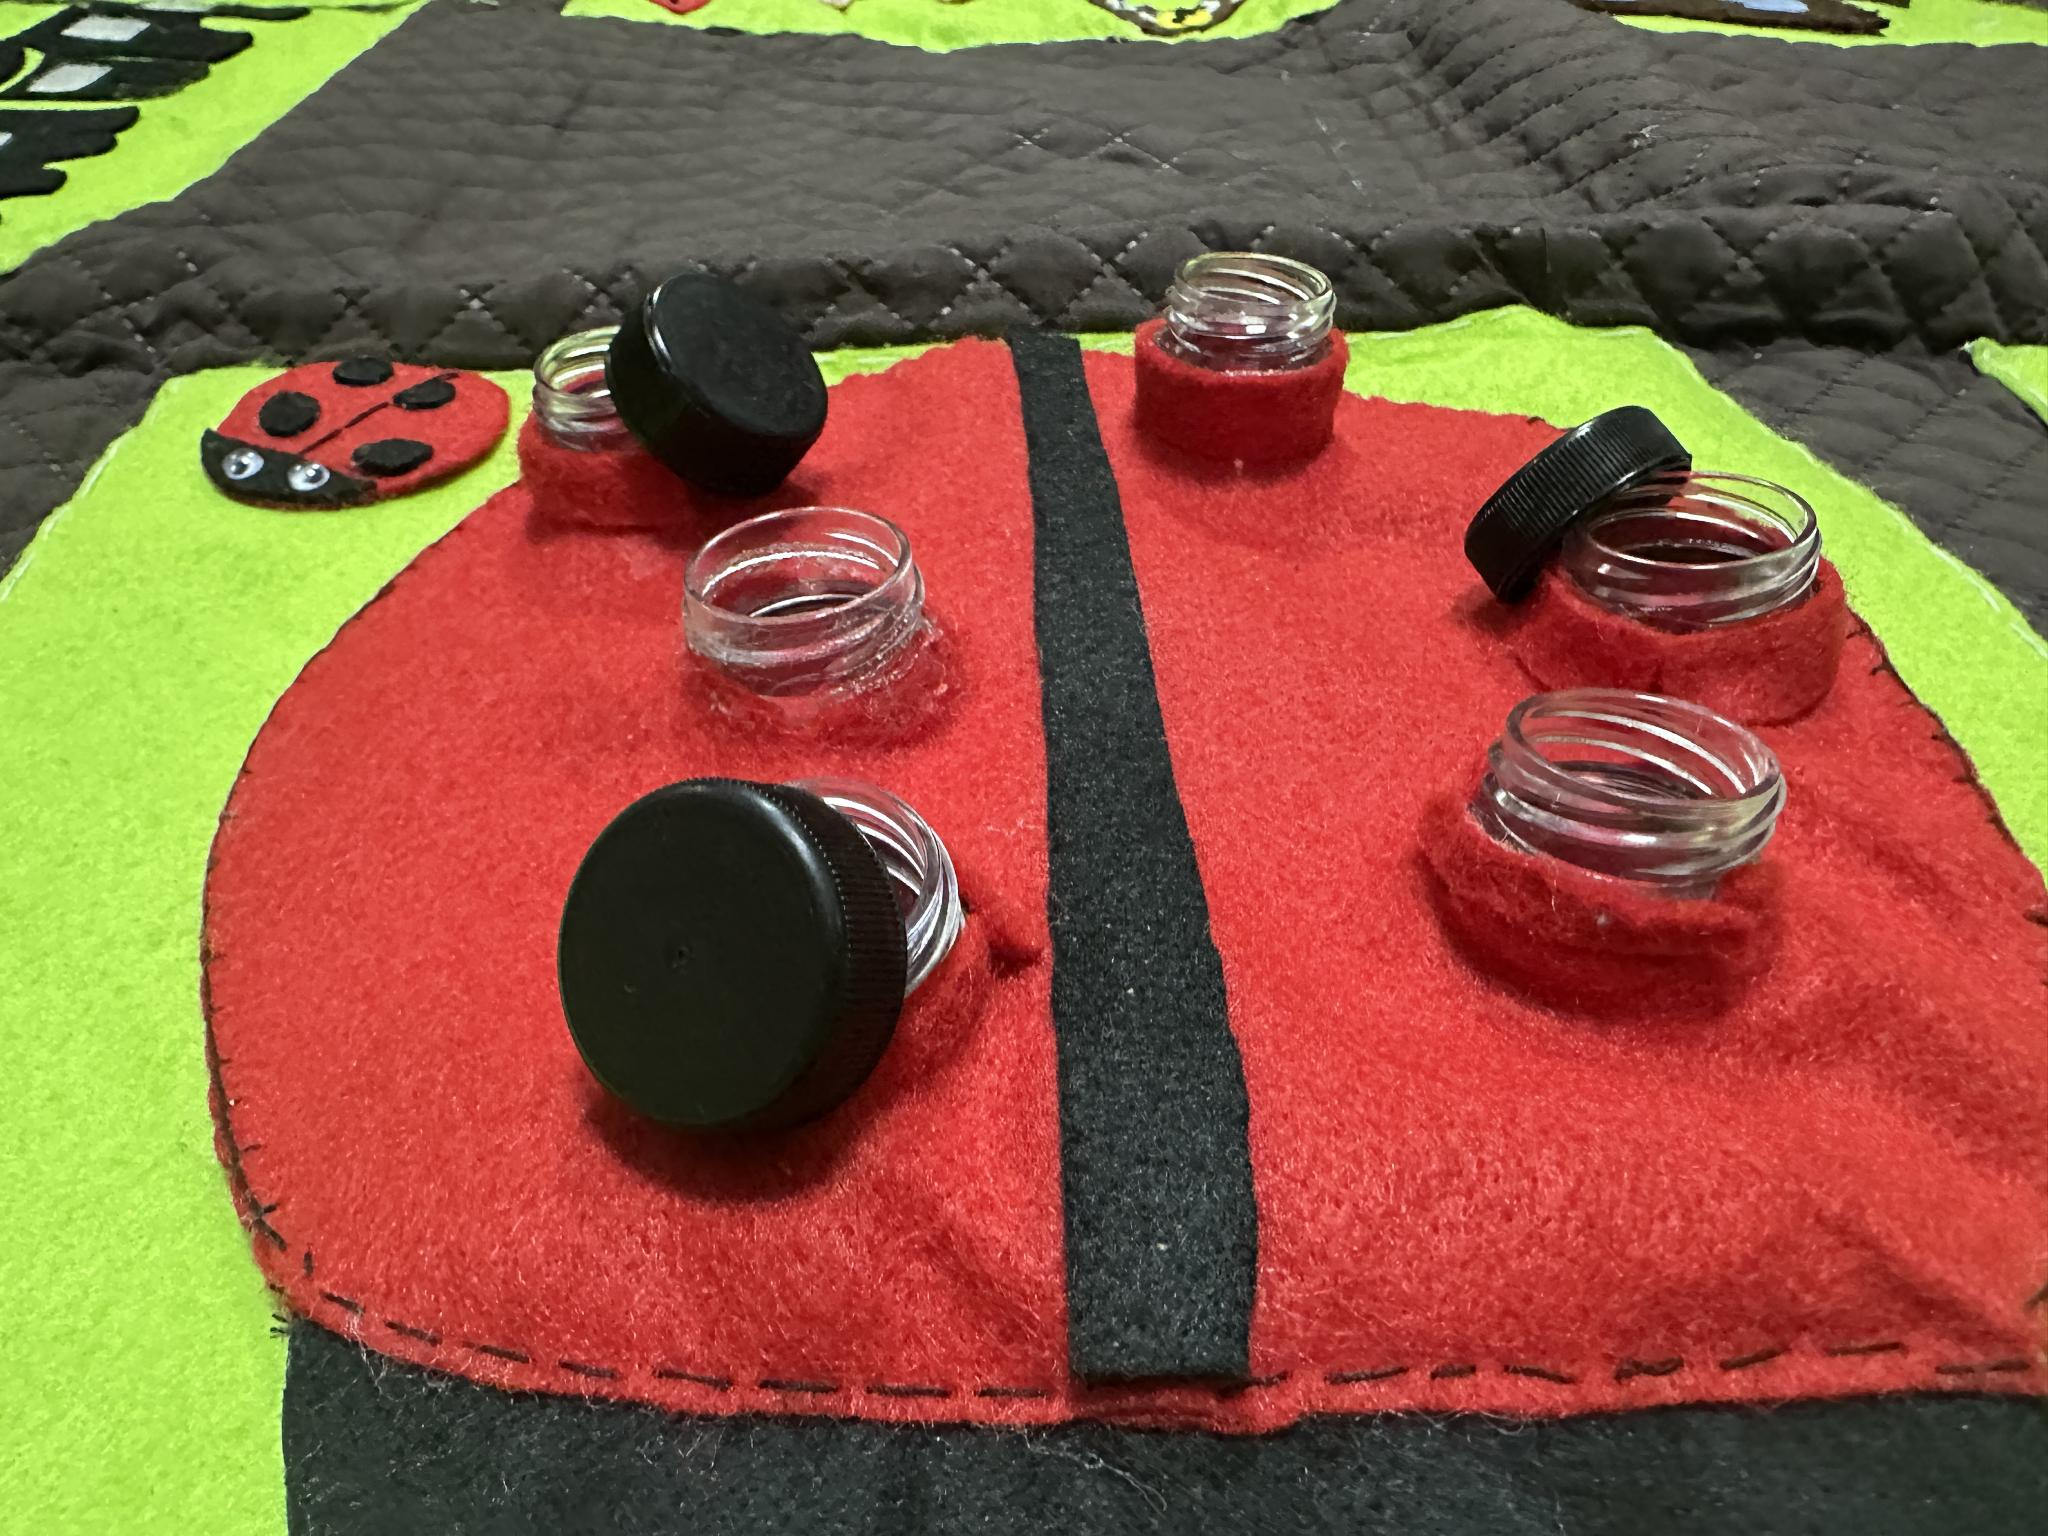cap_ng: (516, 750, 985, 1154), (1440, 382, 1871, 728), (498, 255, 853, 544)
